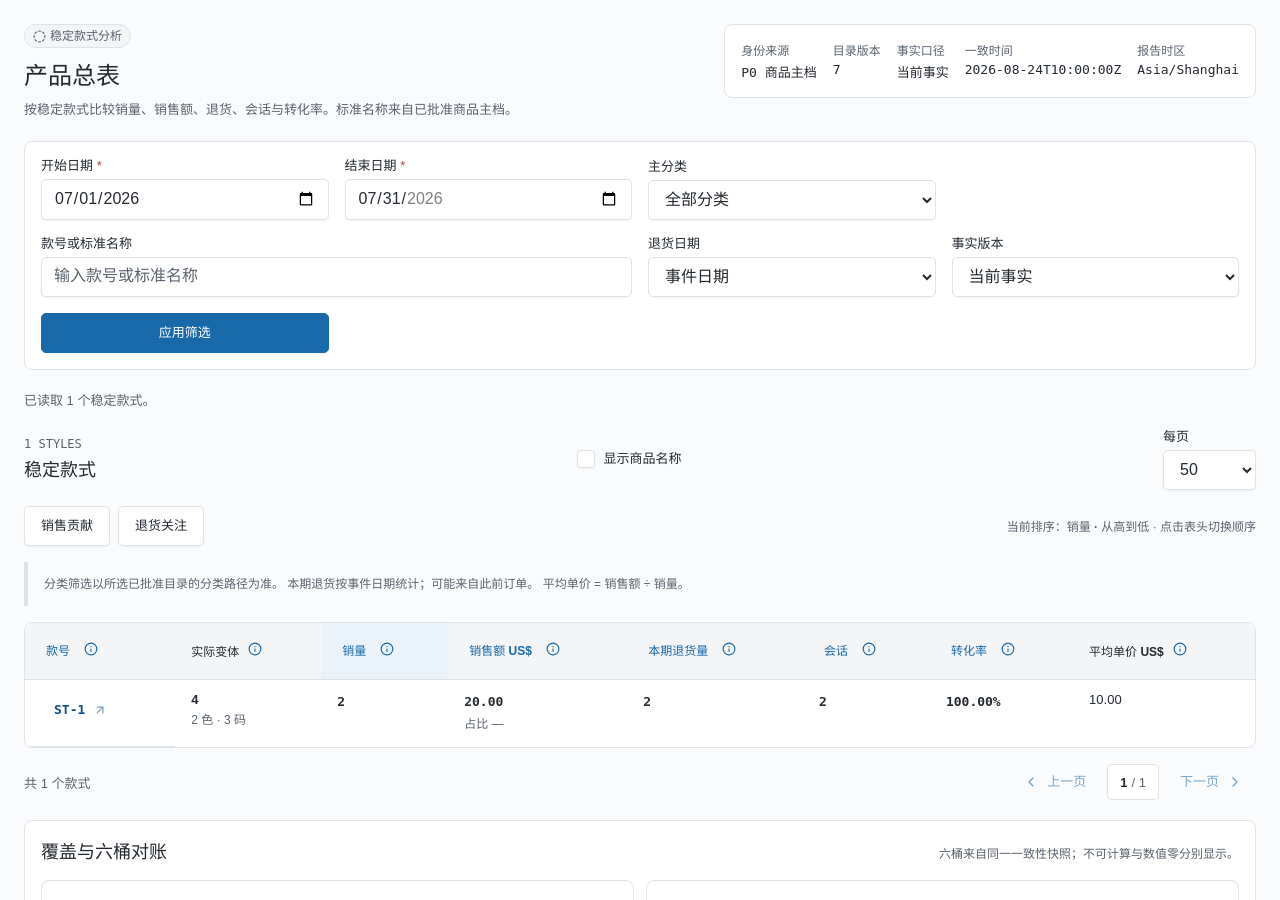
Test case: ProductLedgerPage › opens metric definitions without sorting and restores focus on close
Click the button named "销售额与占比说明" at (553, 651), box [541, 635, 565, 667]
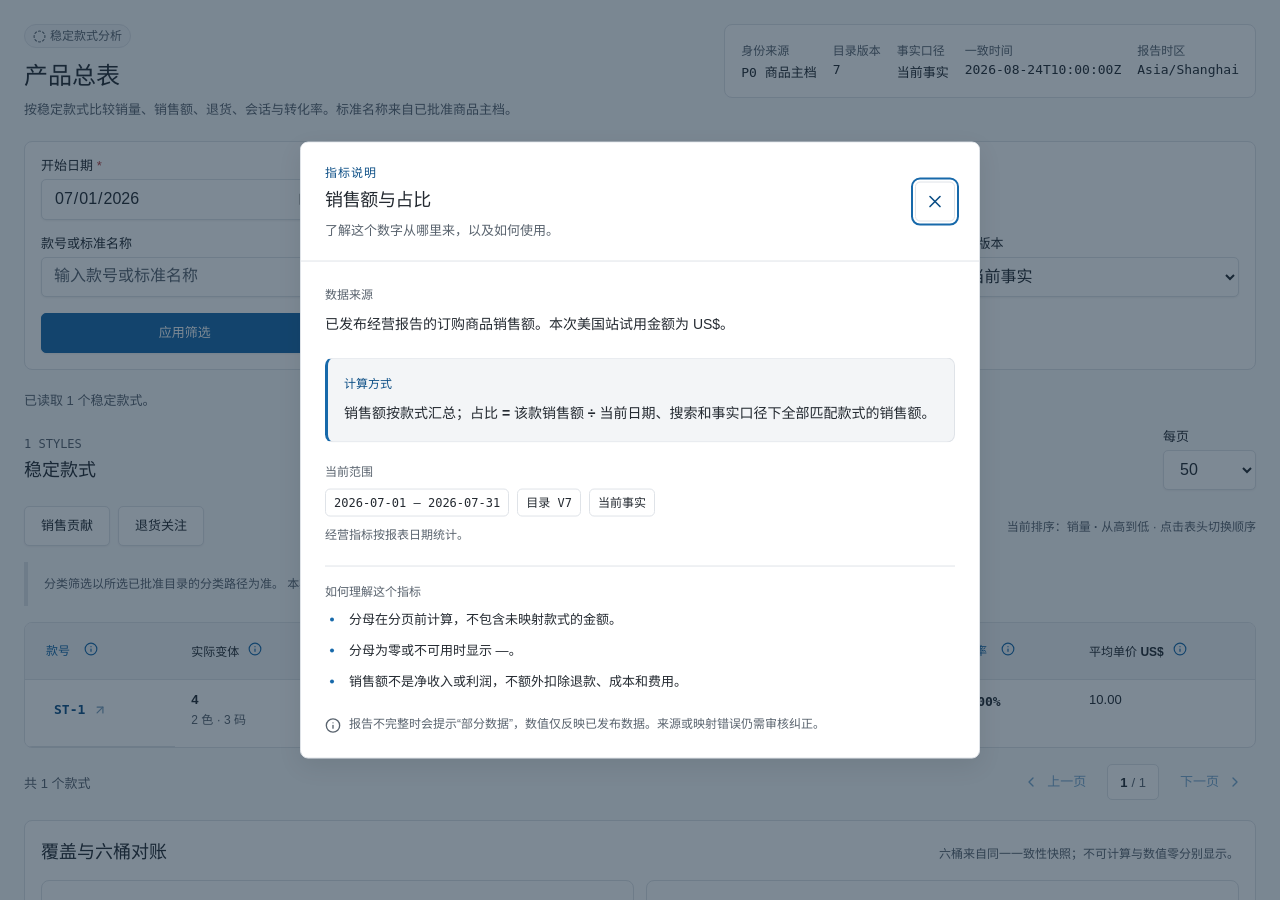
Check: the dialog "销售额与占比" is shown, box [300, 142, 980, 758]
Check: the list item "分母在分页前计算，不包含未映射款式的金额。" is shown, box [349, 612, 622, 627]
Click the button named "关闭指标说明" at (935, 202), box [915, 182, 955, 222]
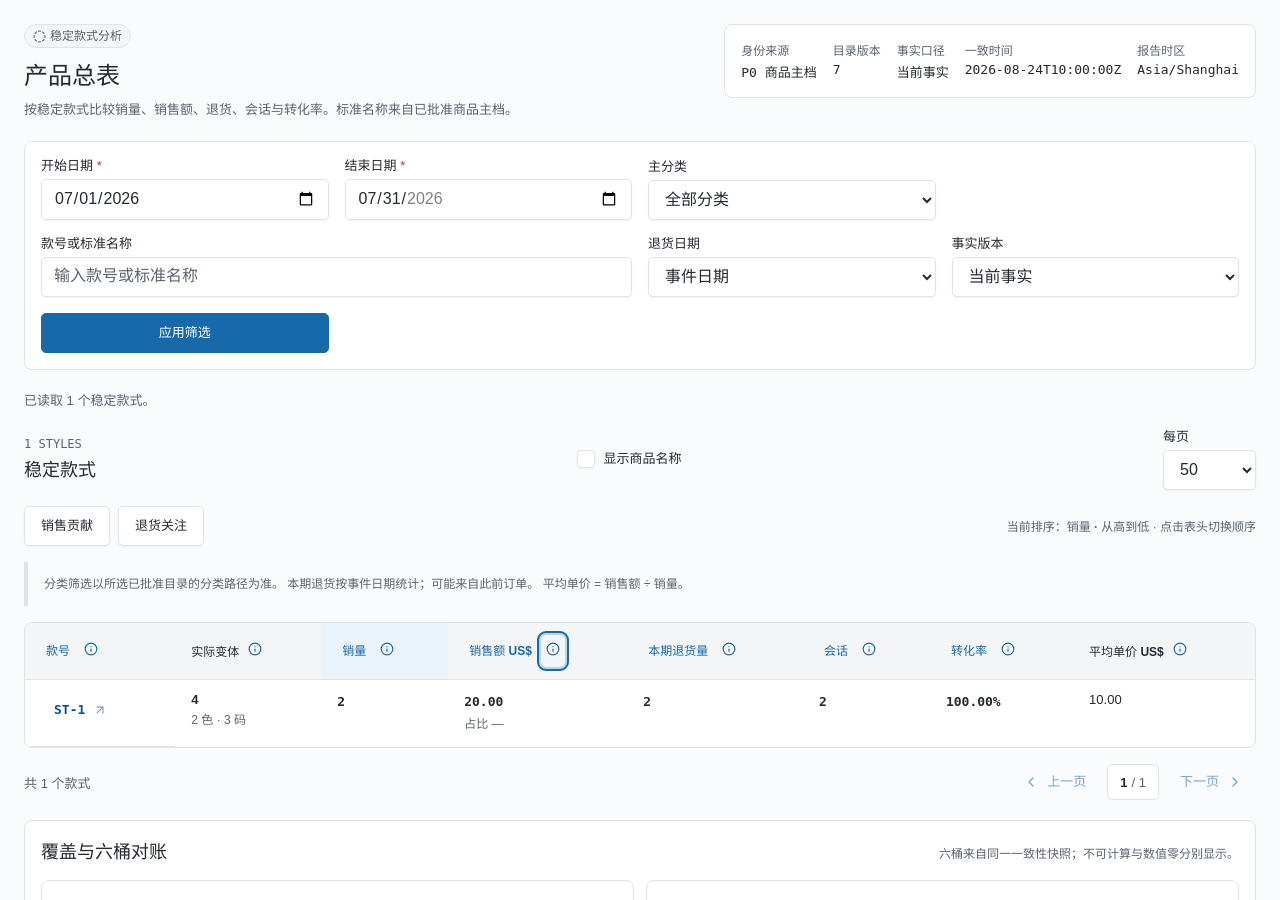
Click the button named "本期退货量与同期退销比说明" at (729, 651), box [717, 635, 741, 667]
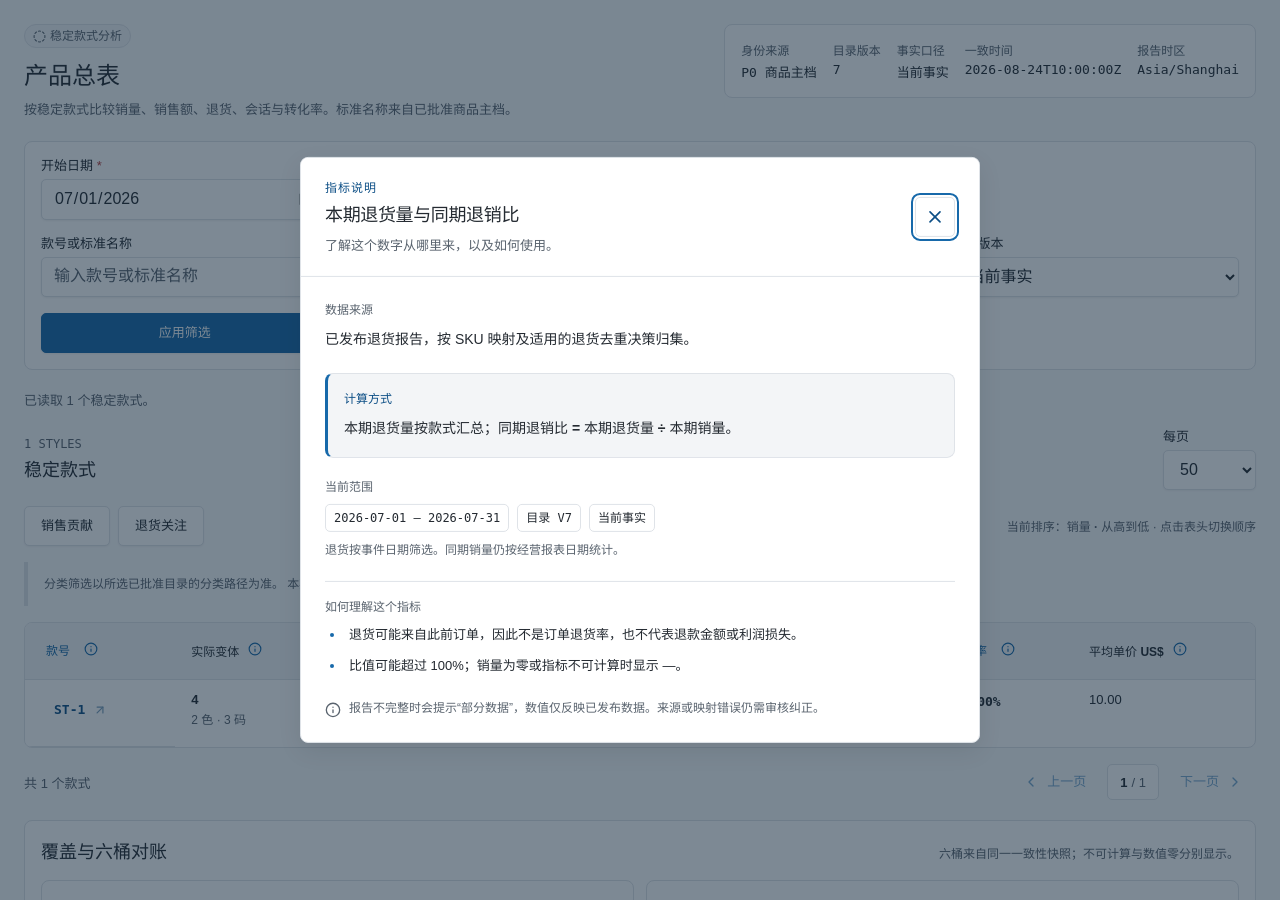
Check: the text "退货按事件日期筛选。同期销量仍按经营报表日期统计。" is shown, box [325, 543, 625, 557]
Check: the list item "退货可能来自此前订单，因此不是订单退货率，也不代表退款金额或利润损失。" is shown, box [349, 627, 804, 642]
